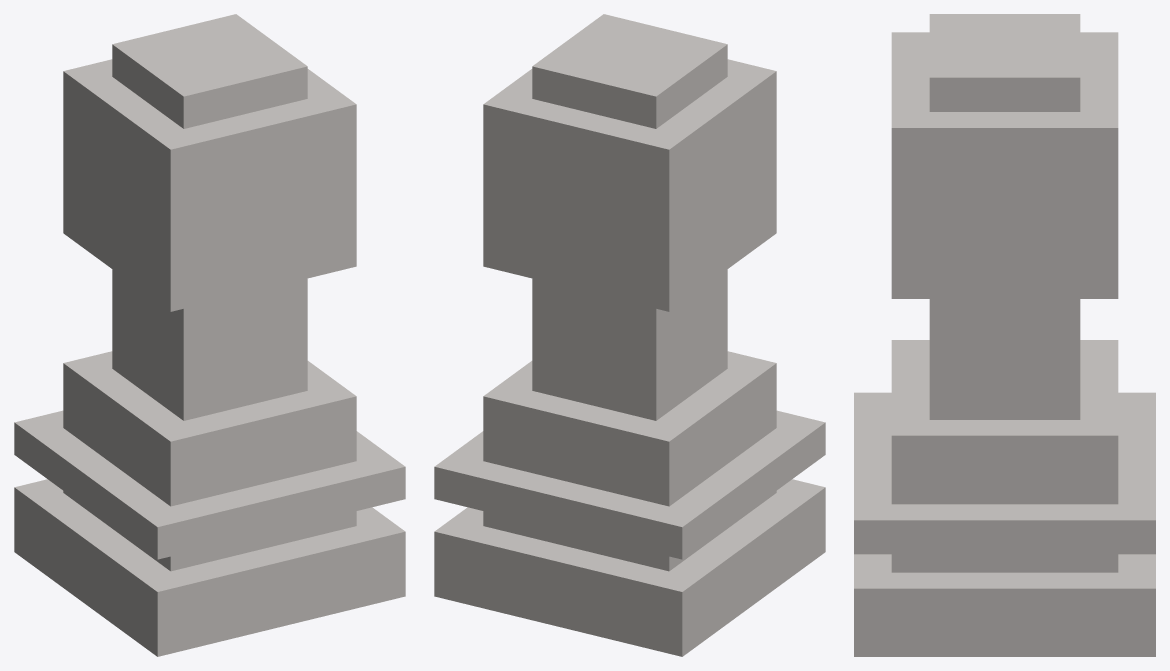
Rendered from token-v1-white.gltf.
3 views of the same model, side by side, from view 1: azimuth 30°, elevation 25°; view 2: azimuth 150°, elevation 25°; view 3: azimuth 270°, elevation 25° (orthographic). The views are drawn at different scales.
Visible parts, largest first — view 1: Untitled; view 2: Untitled; view 3: Untitled.
Part boxes in pixels (x1,y1,x2,y2): Untitled: (14,14,405,656); Untitled: (434,14,825,656); Untitled: (854,14,1155,656).
Bounding box in the file's own units: 0.8 × 1.6 × 0.8.
Materials: 1 (1 with a texture image).
